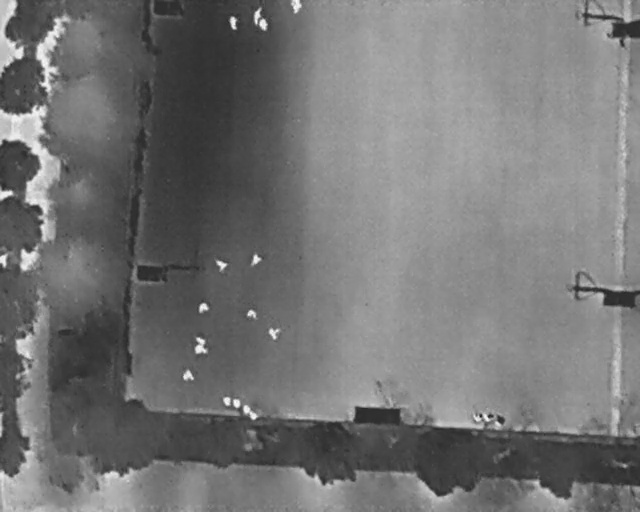Person: (246, 251, 265, 272), (251, 4, 263, 27), (227, 12, 240, 33), (288, 0, 304, 15), (213, 258, 229, 272), (267, 326, 281, 341), (181, 368, 195, 383), (196, 301, 210, 315), (193, 334, 207, 346), (193, 344, 208, 355), (258, 18, 269, 32), (245, 309, 257, 320)
